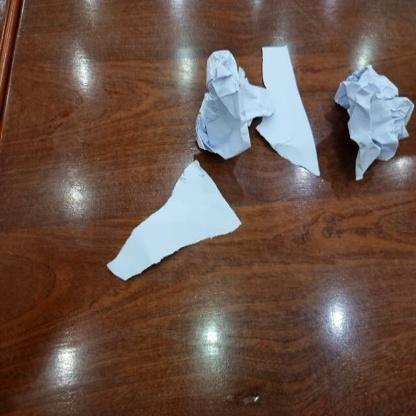trash: (104, 158, 242, 279), (333, 62, 414, 184), (256, 43, 323, 181), (194, 50, 274, 158)
